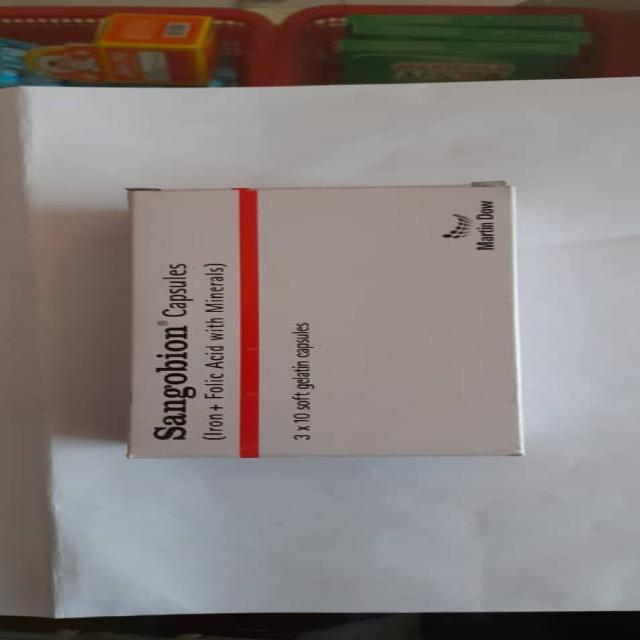drug-name: (147, 318, 199, 446)
